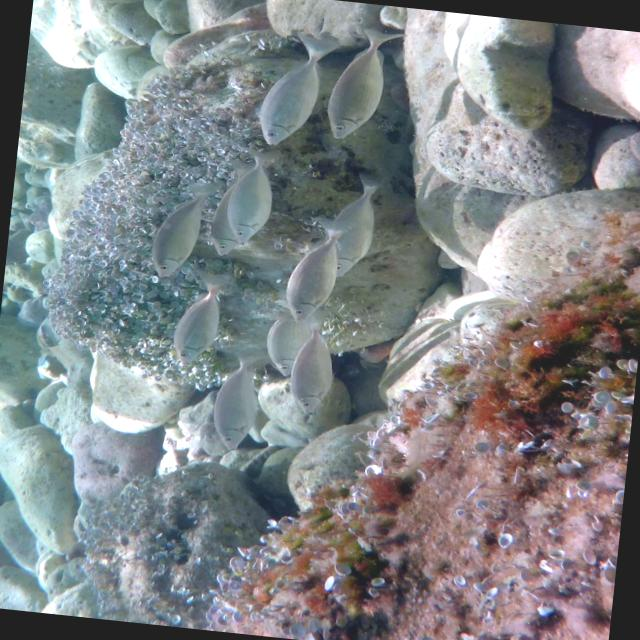Sokar Baligi: (314, 18, 414, 152), (246, 21, 340, 156), (138, 168, 224, 288)
